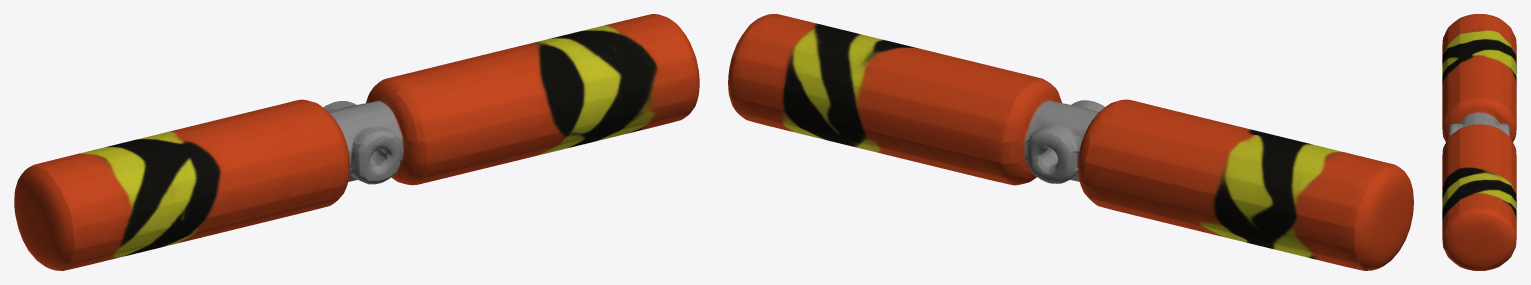
The model's file is PROP_C1_SWEEPER.glb.
3 renders of one model, left to right at view 1: azimuth 30°, elevation 25°; view 2: azimuth 150°, elevation 25°; view 3: azimuth 270°, elevation 25°, orthographic. The views are drawn at different scales.
Visible parts, largest first — view 1: world; view 2: world; view 3: world.
Boxes of the visible parts, x1=… form: world: x1=14, y1=14, x2=699, y2=270; world: x1=728, y1=14, x2=1413, y2=270; world: x1=1442, y1=14, x2=1516, y2=270.
Size of the model in its own units: 1 by 0.1424 by 0.155.
1 material, 1 textured.
